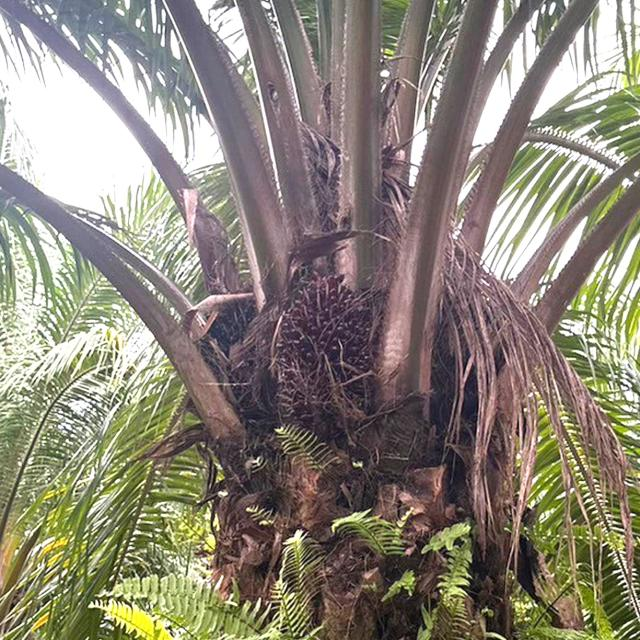ripe: (274, 267, 392, 435)
